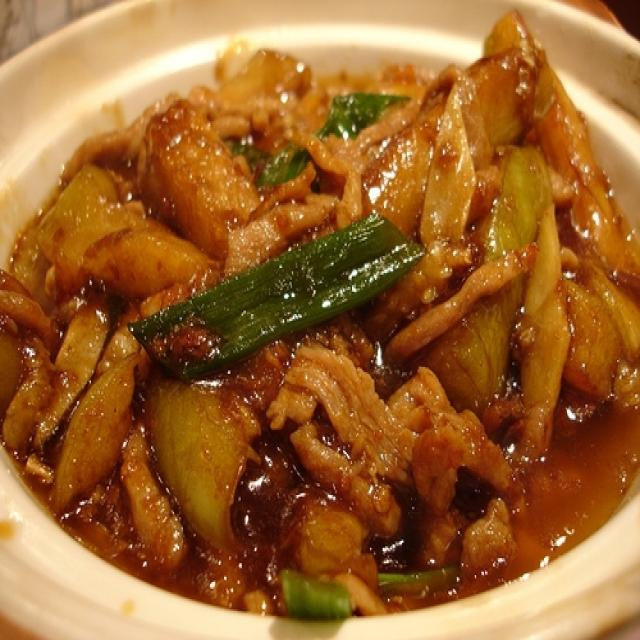鸡蛋料理: (13, 40, 626, 614)
